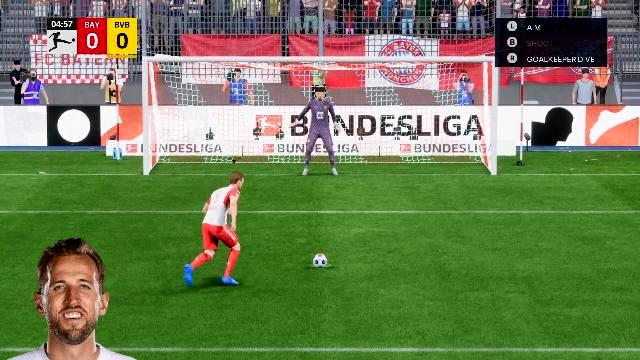bottom-left: (150, 124, 264, 176)
bottom-right: (380, 124, 488, 176)
center-down: (266, 124, 378, 176)
center-up: (266, 66, 378, 122)
circle: (309, 262, 331, 266)
football: (310, 252, 330, 266)
goalkeeper: (290, 90, 354, 178)
player: (182, 176, 254, 288)
top-left: (152, 65, 264, 123)
top-right: (380, 65, 484, 123)
